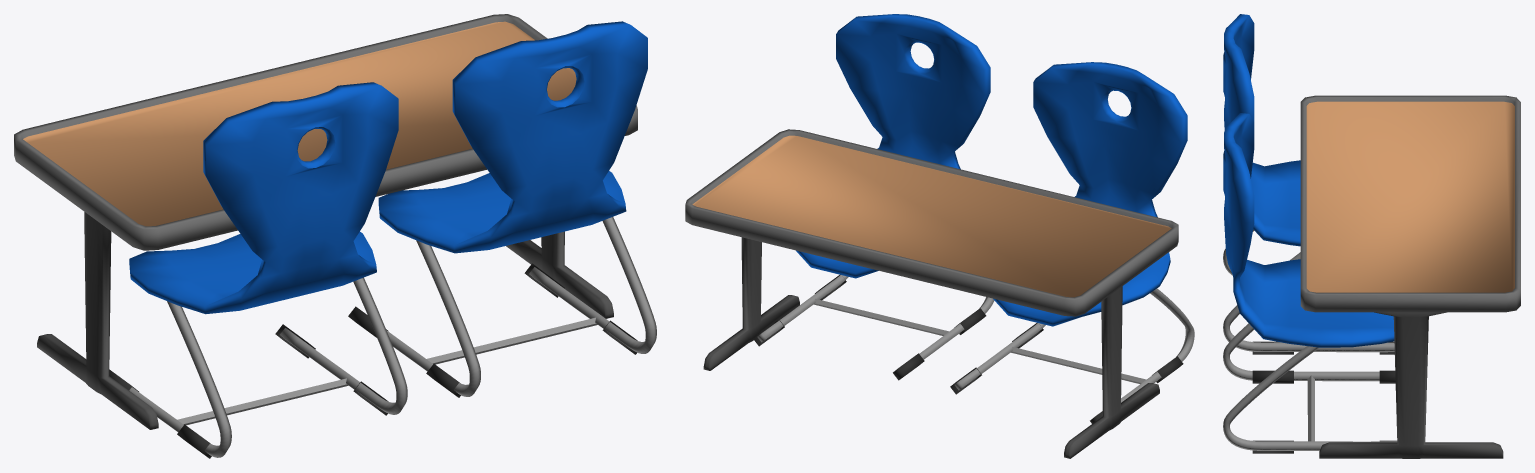
The picture shows the model from 3 angles, left to right: view 1: azimuth 30°, elevation 25°; view 2: azimuth 150°, elevation 25°; view 3: azimuth 270°, elevation 25°; orthographic projection. The views are drawn at different scales.
Parts seen in each view (by area): view 1: Plane.011; view 2: Plane.011; view 3: Plane.011.
Part boxes in pixels (box(x1,y1,x2,y2)): Plane.011: box(14, 14, 656, 458); Plane.011: box(685, 14, 1194, 458); Plane.011: box(1223, 14, 1520, 458).
Bounding box in the file's own units: 1.65 × 1.09 × 1.04.
1 material, 1 textured.
